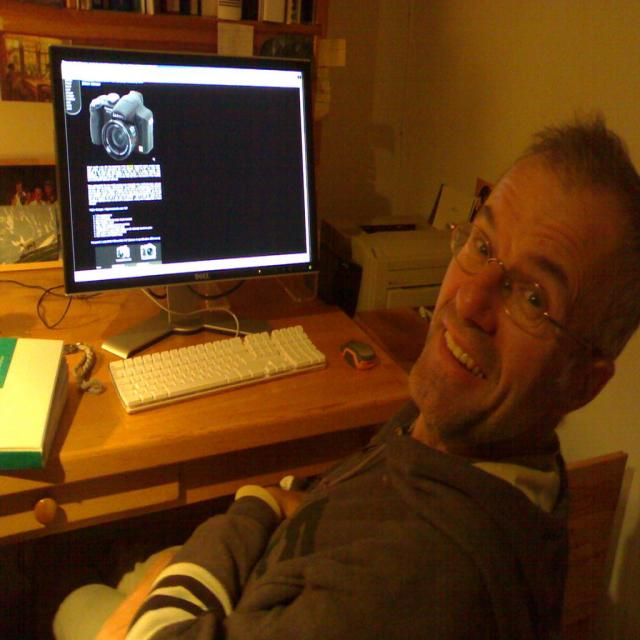desk: (0, 267, 412, 628)
keyboard: (108, 322, 327, 417)
mouse: (342, 340, 376, 370)
person: (101, 123, 640, 638)
tv: (50, 46, 316, 296)
